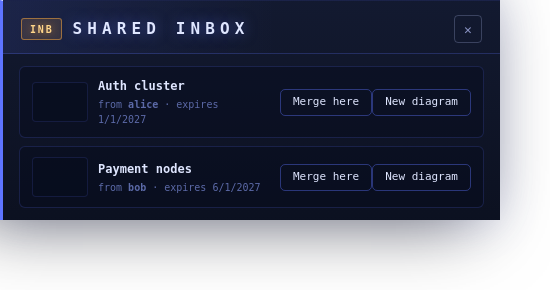
Test case: SharedInbox – import as new diagram › shows success indicator after import
This screenshot has width=550, height=290.
Click the button with test id "inbox-import-btn" in the row of "Auth cluster".
click(422, 103)  # box [372,89,471,116]
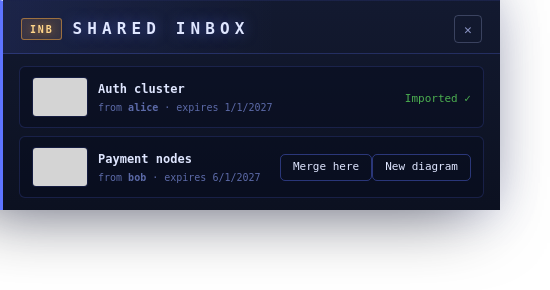
Check: the list item with test id "inbox-row" reads "Auth cluster from alice · expires 1/1/2027 Imported ✓", box [405,92,471,105]
